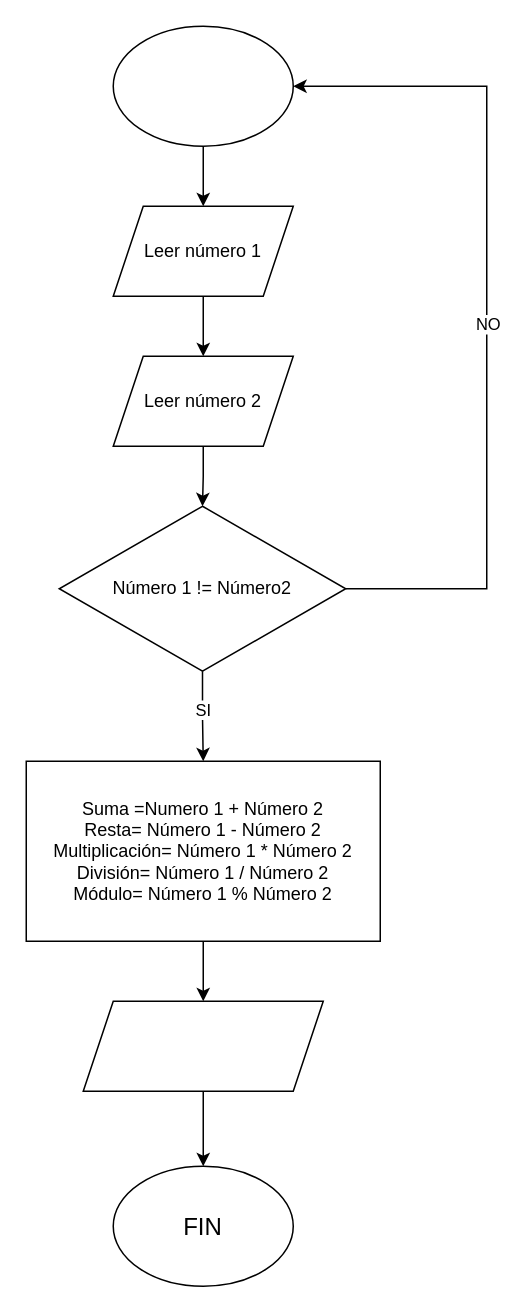
This 527x1313 diagram has some shape labels left out. Each missing label, with the centre of its shape:
"INICIO" belongs at (x=202, y=85).
"Mostrar resultados" belongs at (x=202, y=1045).
